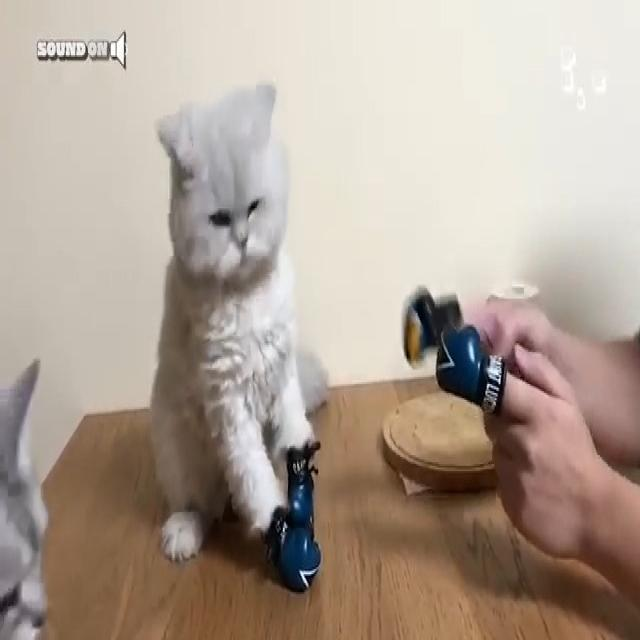cat: (126, 52, 329, 614)
